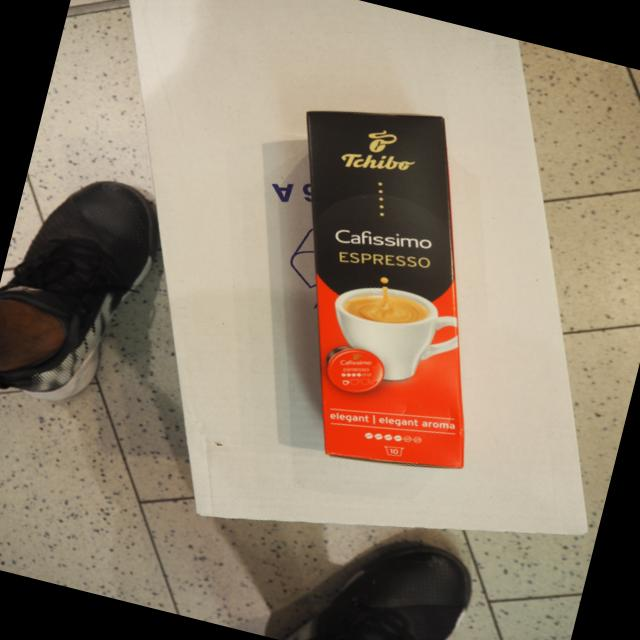Simo Es Elegant: (302, 109, 469, 473)
